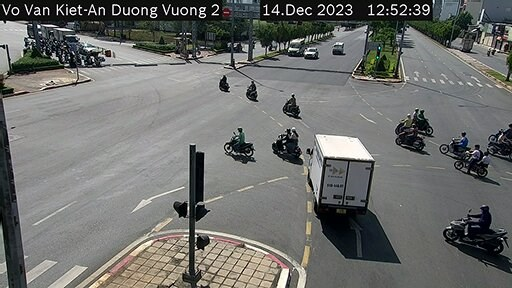motorbike: (447, 196, 504, 255), (222, 126, 260, 164), (270, 124, 299, 163), (396, 122, 425, 150), (282, 90, 304, 120), (245, 77, 260, 102), (217, 73, 232, 91)
truck: (305, 127, 377, 219)
